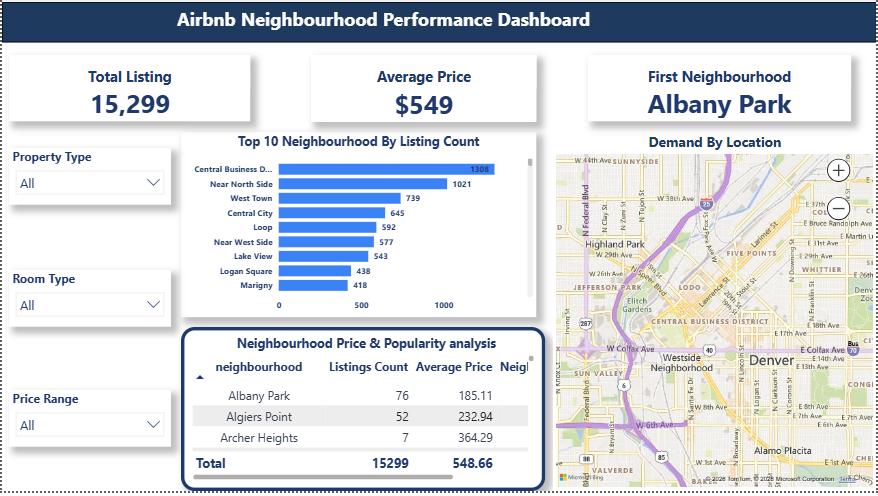

The page's visual inventory and layout, read from the dashboard file:
{"tool":"powerbi","page":{"name":"Overview_of_airbnb","canvas":[1280,720],"ordinal":0},"visuals":[{"type":"clusteredBarChart","title":"Top 10 Neighbourhood By Listing Count","fields":{"Category":["M4_pro.neighbourhood"],"Y":["M4_pro.Listings Count"]},"box":[261.6,194.6,520.1,270.9],"z":3000},{"type":"tableEx","title":"Neighbourhood  Price & Popularity analysis","fields":{"Values":["M4_pro.neighbourhood","M4_pro.Listings Count","M4_pro.Average Price","M4_pro.Neighbourhood Rank"]},"box":[261.6,479.6,532.6,239.8],"z":4000},{"type":"map","title":"Demand By Location","fields":{"Category":["M4_pro.neighbourhood"],"Size":["M4_pro.Listings Count"]},"box":[806.6,194.6,473.4,524.8],"z":5000},{"type":"textbox","box":[0,4.9,1280,59.2],"z":6000},{"type":"slicer","title":"Property Type","fields":{"Values":["M4_pro.Property_Type"]},"box":[10.9,218,236.7,82.5],"z":6001},{"type":"slicer","title":"Room Type","fields":{"Values":["M4_pro.room_type"]},"box":[10.9,397.1,236.7,82.5],"z":6002},{"type":"slicer","title":"Price Range","fields":{"Values":["M4_pro.Price Category"]},"box":[10.9,571.5,236.7,82.5],"z":6003},{"type":"card","title":"Total Listing","fields":{"Values":["M4_pro.Listings Count"]},"box":[10.9,82.5,353.5,96.5],"z":6005},{"type":"card","title":"First Neighbourhood","fields":{"Values":["Min(M4_pro.neighbourhood)"]},"box":[858,82.5,384.6,96.5],"z":6007},{"type":"card","title":"Average Price","fields":{"Values":["M4_pro.Average Price"]},"box":[451.6,82.5,330.1,98.1],"z":6008}]}

Visuals, with their boxes in screenshot pixels (x1, y1, x2, y2), scaled from the page's 1280x720 canvas onto the 878x496 screenshot:
"Top 10 Neighbourhood By Listing Count" clusteredBarChart: [179,134,536,321]
"Neighbourhood  Price & Popularity analysis" tableEx: [179,330,545,495]
"Demand By Location" map: [553,134,877,495]
textbox: [0,3,877,44]
"Property Type" slicer: [7,150,170,207]
"Room Type" slicer: [7,274,170,330]
"Price Range" slicer: [7,394,170,451]
"Total Listing" card: [7,57,250,123]
"First Neighbourhood" card: [589,57,852,123]
"Average Price" card: [310,57,536,124]
